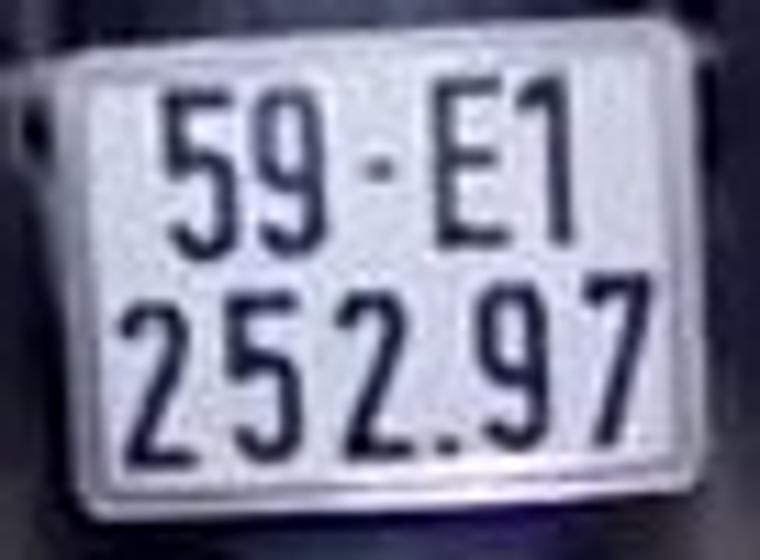-: (362, 159, 394, 179)
.: (433, 433, 461, 456)
1: (519, 74, 573, 244)
2: (120, 298, 199, 471), (340, 291, 413, 462)
5: (223, 291, 301, 461), (159, 87, 235, 259)
7: (583, 269, 649, 448)
9: (246, 83, 329, 252), (475, 283, 550, 452)
E: (429, 79, 511, 247)
